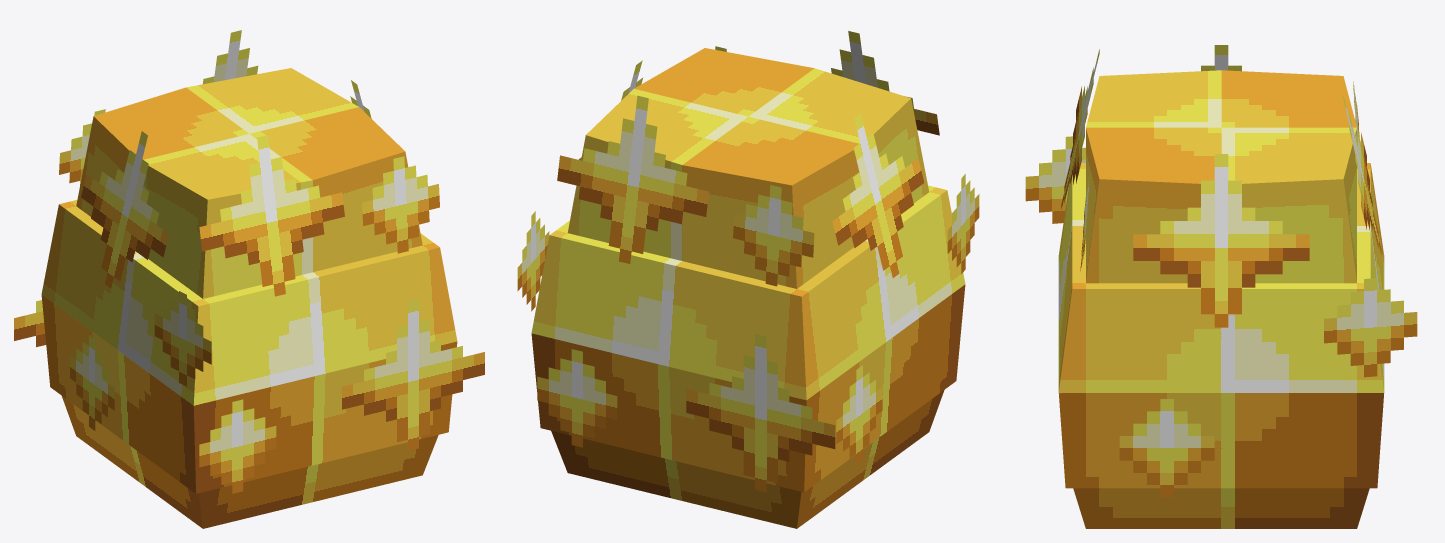
The model's file is golden-egg.gltf.
3 renders of one model, left to right at view 1: azimuth 30°, elevation 25°; view 2: azimuth 150°, elevation 25°; view 3: azimuth 270°, elevation 25°, orthographic. The views are drawn at different scales.
Parts seen in each view (by area): view 1: cube (×13); view 2: cube (×12); view 3: cube (×10).
Boxes of the visible parts, x1,y1,x2,y2 form: cube (×13): (14, 30, 484, 528); cube (×12): (517, 31, 979, 528); cube (×10): (1025, 45, 1417, 528).
Bounding box in the file's own units: 0.9062 × 1.01 × 0.9645.
Materials: 2 (2 with a texture image).
